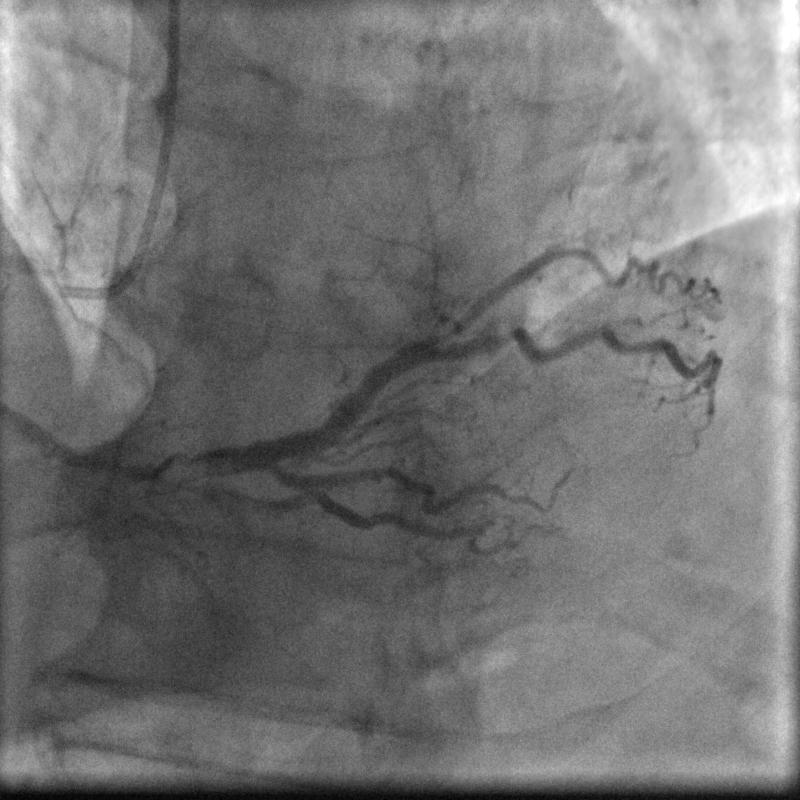Stenosis: (467, 324, 530, 358)
